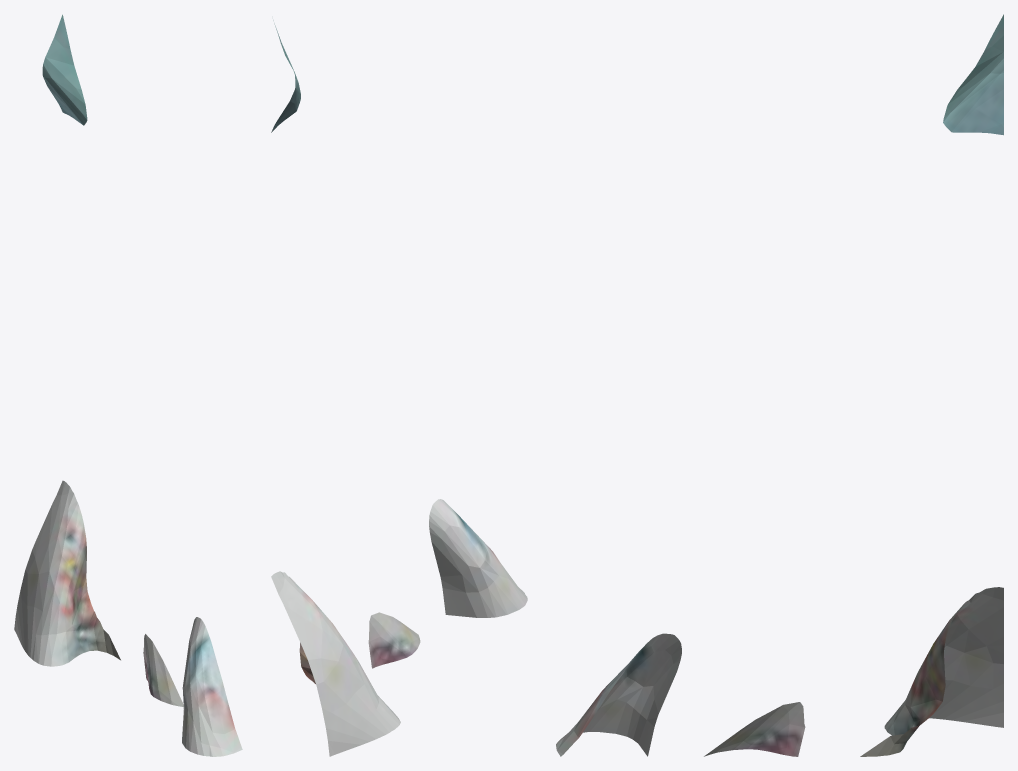
3 views of the same model, side by side, from view 1: azimuth 30°, elevation 25°; view 2: azimuth 150°, elevation 25°; view 3: azimuth 270°, elevation 25° (orthographic). The views are drawn at different scales.
Visible parts, largest first — view 1: 091_W_Aya_100K_01; view 2: 091_W_Aya_100K_01; view 3: 091_W_Aya_100K_01.
Part boxes in pixels (x1,y1,x2,y2): 091_W_Aya_100K_01: [14, 14, 242, 756]; 091_W_Aya_100K_01: [271, 20, 527, 756]; 091_W_Aya_100K_01: [556, 14, 1003, 756].
Size of the model in its own units: 18.4 by 162 by 88.3.
Materials: 1 (1 with a texture image).
